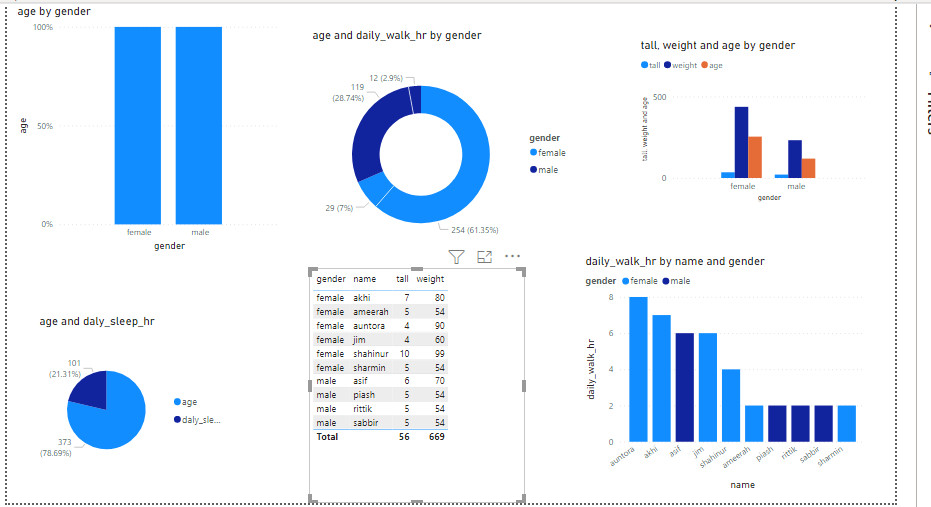

The dashboard page shown, as its layout file describes it:
{"tool":"powerbi","page":{"name":"Page 1","canvas":[1280,720],"ordinal":0},"visuals":[{"type":"hundredPercentStackedColumnChart","fields":{"Y":["customers.age"],"Category":["customers.gender"]},"box":[10.1,0,388.1,360.7],"z":0},{"type":"donutChart","fields":{"Y":["customers.age","customers.daily_walk_hr"],"Category":["customers.gender"]},"box":[435.8,34.6,386.7,346.3],"z":1000},{"type":"pieChart","fields":{"Y":["customers.age","customers.daly_sleep_hr"]},"box":[41.8,447.3,285.7,258.3],"z":2000},{"type":"tableEx","fields":{"Values":["customers.gender","customers.name","customers.tall","customers.weight"]},"box":[435.8,380.9,311.7,339.1],"z":3000},{"type":"clusteredColumnChart","fields":{"Category":["customers.gender"],"Y":["customers.tall","customers.weight","customers.age"]},"box":[909,49.1,334.7,241],"z":4000},{"type":"columnChart","fields":{"Category":["customers.name"],"Y":["customers.daily_walk_hr"],"Series":["customers.gender"]},"box":[829.7,360.7,414.1,344.8],"z":5000}]}

Visuals, with their boxes on the page's 1280x720 design canvas (x1, y1, x2, y2). These are canvas units, not pixel positions in the 931x507 screenshot, which may show the page scaled, cropped or inside an application window:
hundredPercentStackedColumnChart - customers.age x customers.gender: x1=10, y1=0, x2=398, y2=361
donutChart - customers.age x customers.daily_walk_hr: x1=436, y1=35, x2=822, y2=381
pieChart - customers.age x customers.daly_sleep_hr: x1=42, y1=447, x2=328, y2=706
tableEx - customers.gender x customers.name: x1=436, y1=381, x2=748, y2=720
clusteredColumnChart - customers.gender x customers.tall: x1=909, y1=49, x2=1244, y2=290
columnChart - customers.name x customers.daily_walk_hr: x1=830, y1=361, x2=1244, y2=706
